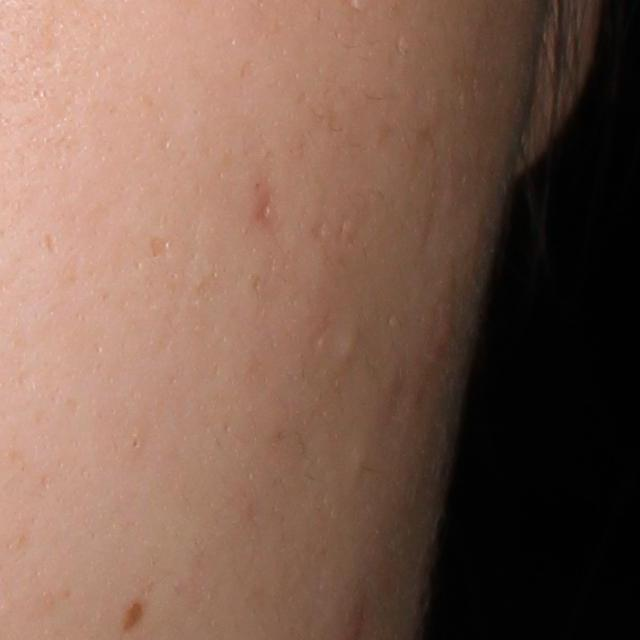atrophic_scar: (149, 234, 170, 263), (41, 230, 59, 253)
comedo: (331, 321, 367, 371), (126, 432, 143, 455)
nevus: (121, 596, 149, 633)
